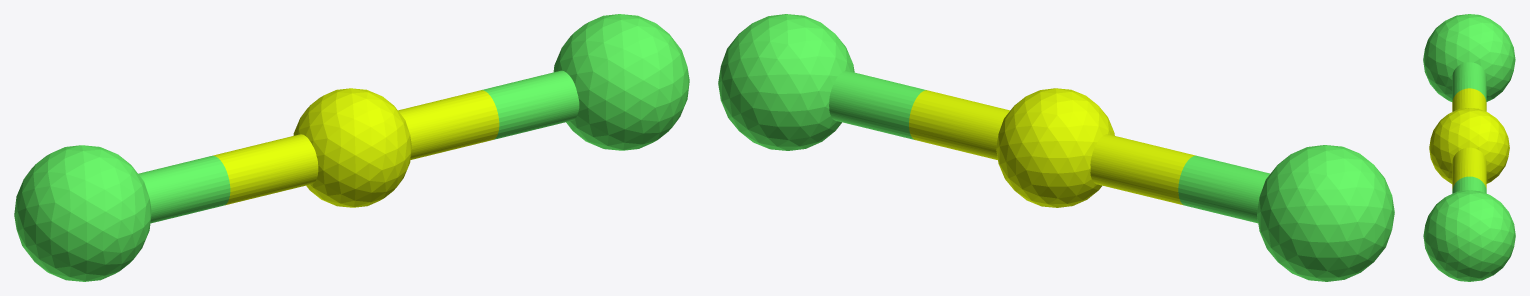
File: BeCl2.glb
3 renders of one model, left to right at view 1: azimuth 30°, elevation 25°; view 2: azimuth 150°, elevation 25°; view 3: azimuth 270°, elevation 25°, orthographic. The views are drawn at different scales.
Parts seen in each view (by area): view 1: Shape_IndexedFaceSet.002, Shape_IndexedFaceSet, Shape_IndexedFaceSet.001, Shape_IndexedFaceSet.007, Shape_IndexedFaceSet.005, Shape_IndexedFaceSet.003, Shape_IndexedFaceSet.008; view 2: Shape_IndexedFaceSet.002, Shape_IndexedFaceSet, Shape_IndexedFaceSet.001, Shape_IndexedFaceSet.007, Shape_IndexedFaceSet.005, Shape_IndexedFaceSet.003, Shape_IndexedFaceSet.008; view 3: Shape_IndexedFaceSet, Shape_IndexedFaceSet.002, Shape_IndexedFaceSet.001, Shape_IndexedFaceSet.005, Shape_IndexedFaceSet.008, Shape_IndexedFaceSet.007, Shape_IndexedFaceSet.003.
Boxes of the visible parts, x1=… form: Shape_IndexedFaceSet.002: x1=14, y1=145, x2=151, y2=281; Shape_IndexedFaceSet: x1=553, y1=14, x2=689, y2=150; Shape_IndexedFaceSet.001: x1=293, y1=88, x2=411, y2=207; Shape_IndexedFaceSet.007: x1=213, y1=134, x2=318, y2=205; Shape_IndexedFaceSet.005: x1=398, y1=90, x2=499, y2=159; Shape_IndexedFaceSet.003: x1=481, y1=70, x2=579, y2=139; Shape_IndexedFaceSet.008: x1=138, y1=155, x2=230, y2=223; Shape_IndexedFaceSet.002: x1=1257, y1=145, x2=1394, y2=281; Shape_IndexedFaceSet: x1=718, y1=14, x2=854, y2=150; Shape_IndexedFaceSet.001: x1=996, y1=88, x2=1114, y2=207; Shape_IndexedFaceSet.007: x1=1090, y1=134, x2=1195, y2=205; Shape_IndexedFaceSet.005: x1=909, y1=90, x2=1009, y2=159; Shape_IndexedFaceSet.003: x1=829, y1=70, x2=926, y2=139; Shape_IndexedFaceSet.008: x1=1178, y1=155, x2=1269, y2=223; Shape_IndexedFaceSet: x1=1423, y1=190, x2=1515, y2=281; Shape_IndexedFaceSet.002: x1=1423, y1=14, x2=1515, y2=101; Shape_IndexedFaceSet.001: x1=1429, y1=108, x2=1509, y2=183; Shape_IndexedFaceSet.005: x1=1452, y1=147, x2=1486, y2=190; Shape_IndexedFaceSet.008: x1=1452, y1=62, x2=1486, y2=101; Shape_IndexedFaceSet.007: x1=1452, y1=88, x2=1486, y2=111; Shape_IndexedFaceSet.003: x1=1452, y1=176, x2=1486, y2=193.
Size of the model in its own units: 1.11 by 0.2022 by 0.2024.
